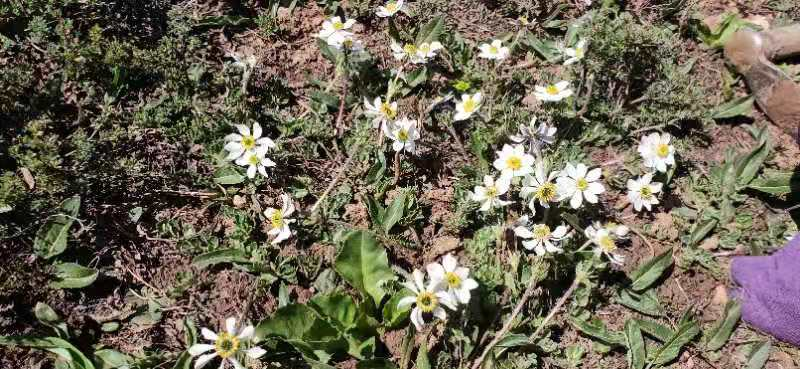cpf: (387, 151, 404, 191)
